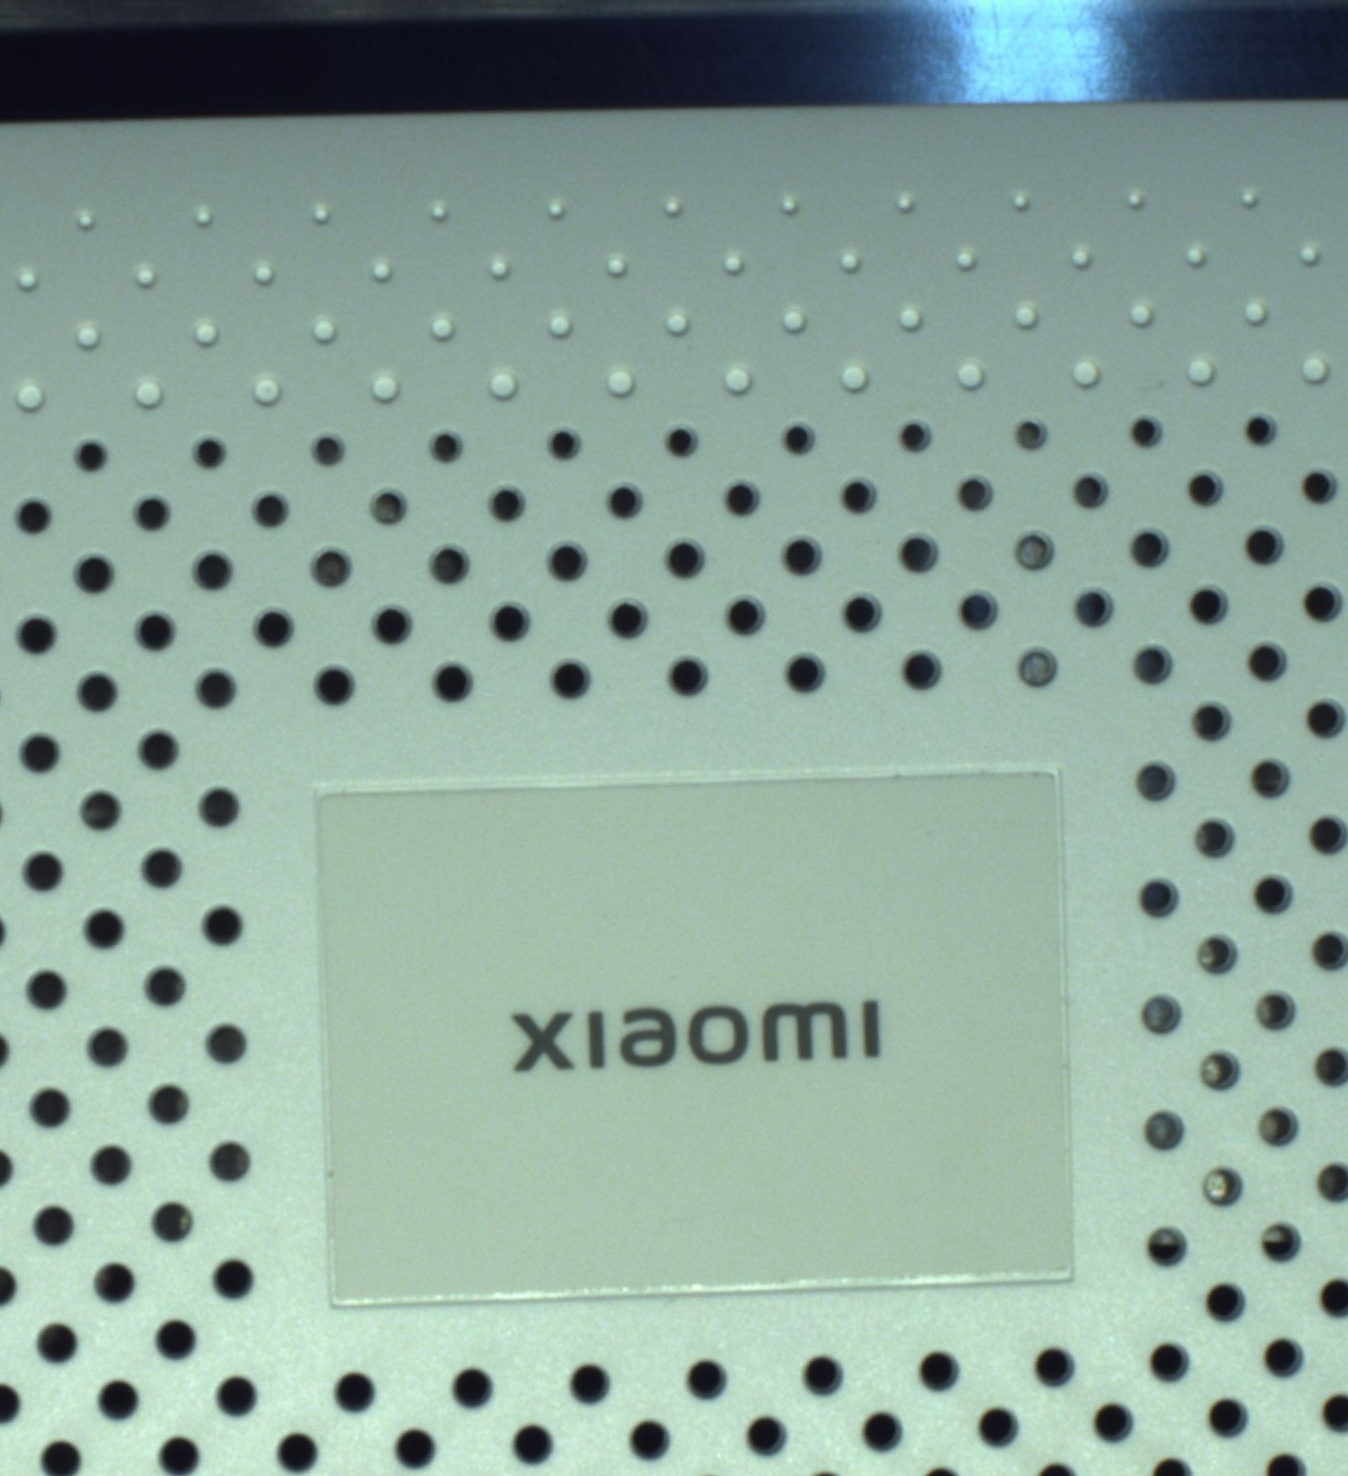MAB_OldUnicom: (476, 986, 893, 1084)
